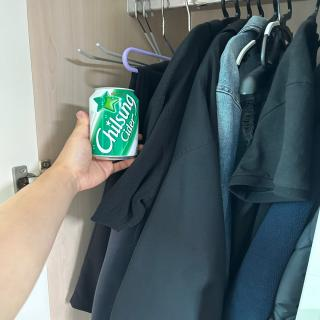chilsung: (87, 84, 140, 163)
